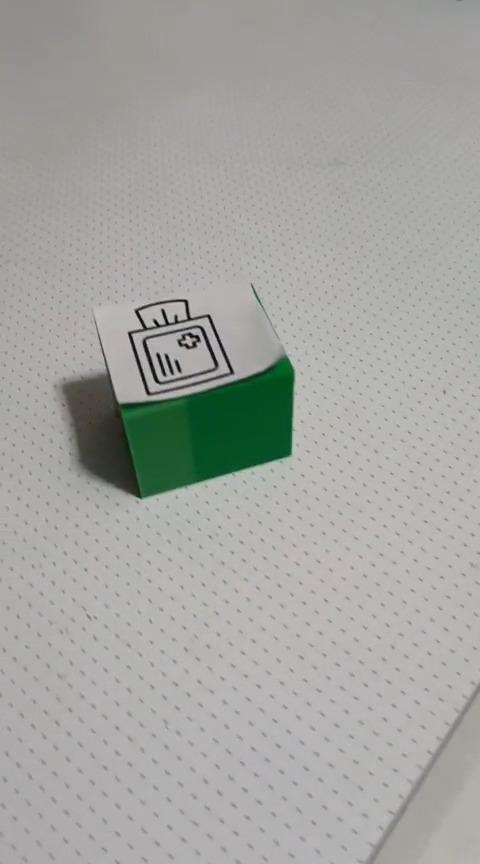Gauze: (91, 278, 295, 499)
